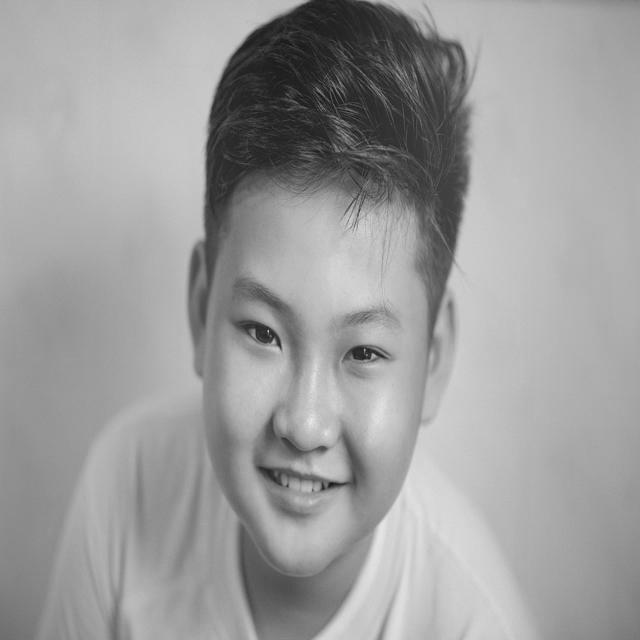Happiness: (188, 165, 450, 585)
